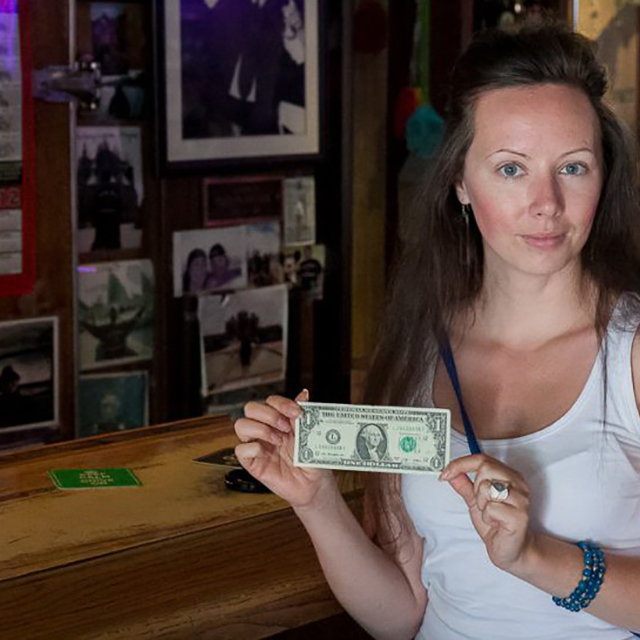banknotes: (293, 402, 452, 475)
